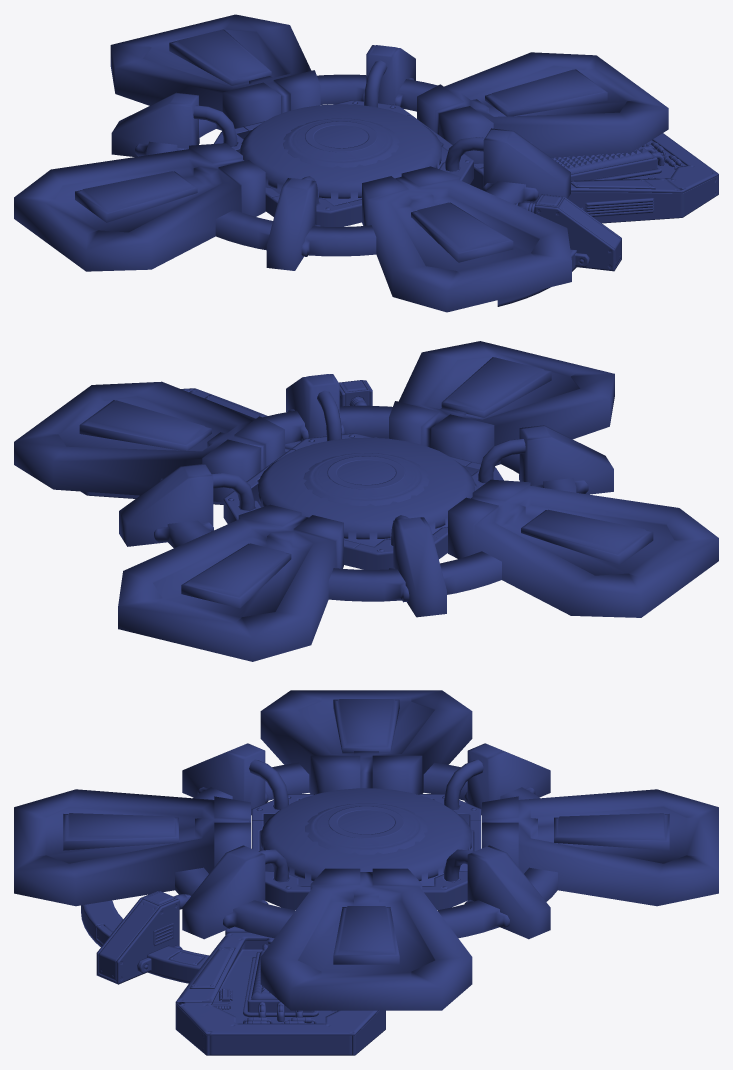
3 views of the same model, one above another, from view 1: azimuth 30°, elevation 25°; view 2: azimuth 150°, elevation 25°; view 3: azimuth 270°, elevation 25° (orthographic). The views are drawn at different scales.
Visible parts, largest first — view 1: HealthBase_LP; view 2: HealthBase_LP; view 3: HealthBase_LP.
Part boxes in pixels (x1,y1,x2,y2): HealthBase_LP: (14,14,718,312); HealthBase_LP: (14,341,718,661); HealthBase_LP: (14,690,718,1055).
Bounding box in the file's own units: 3.48 × 0.5372 × 3.42.
